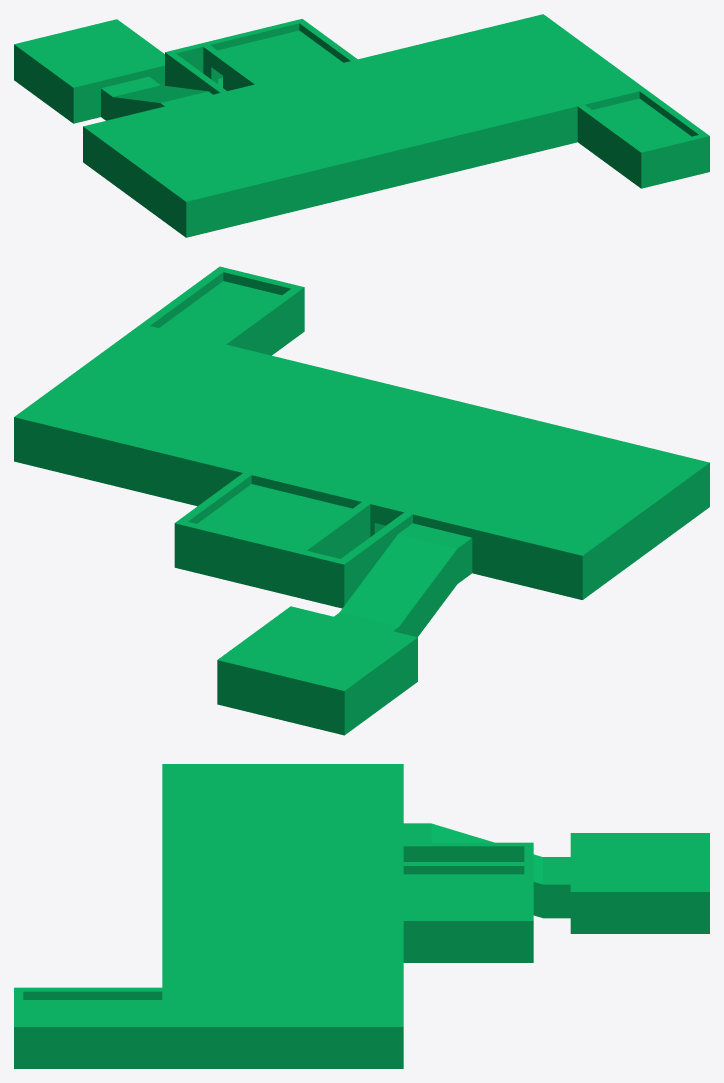
The model's file is tutorial_untex_culled.fbx.
3 views of the same model, one above another, from view 1: azimuth 30°, elevation 25°; view 2: azimuth 150°, elevation 25°; view 3: azimuth 270°, elevation 25° (orthographic). The views are drawn at different scales.
Visible parts, largest first — view 1: Brush010, Brush006, Brush027, Brush025, Brush052, Brush017, Brush003, Brush049, Brush019, Brush002, Brush004, Brush007 (+15 smaller); view 2: Brush010, Brush027, Brush015, Brush013, Brush025, Brush052, Brush051, Brush017, Brush038, Brush018, Brush019, Brush049 (+12 smaller); view 3: Brush010, Brush027, Brush007, Brush050, Brush052, Brush012, Brush017, Brush004, Brush019, Brush023, Brush006, Brush028 (+12 smaller).
Boxes of the visible parts, x1,y1,x2,y2 form: Brush010: [266, 18, 635, 155]; Brush006: [189, 97, 601, 235]; Brush027: [94, 87, 353, 197]; Brush025: [83, 125, 192, 237]; Brush052: [25, 24, 164, 82]; Brush017: [218, 30, 343, 82]; Brush003: [637, 133, 709, 188]; Brush049: [14, 42, 80, 123]; Brush019: [452, 48, 564, 97]; Brush002: [577, 104, 643, 185]; Brush004: [592, 98, 691, 148]; Brush007: [537, 14, 705, 136]; Brush010: [28, 329, 483, 498]; Brush027: [375, 414, 696, 549]; Brush015: [22, 415, 298, 506]; Brush013: [183, 522, 339, 606]; Brush025: [574, 460, 709, 599]; Brush052: [231, 612, 404, 685]; Brush051: [225, 658, 340, 733]; Brush017: [197, 484, 352, 548]; Brush038: [455, 521, 578, 597]; Brush018: [257, 401, 398, 462]; Brush019: [116, 365, 253, 427]; Brush049: [336, 635, 417, 735]; Brush010: [171, 866, 394, 1022]; Brush027: [171, 768, 394, 861]; Brush007: [23, 1023, 403, 1068]; Brush050: [570, 888, 709, 933]; Brush052: [580, 837, 700, 887]; Brush012: [403, 917, 533, 962]; Brush017: [403, 874, 524, 916]; Brush004: [23, 1000, 162, 1022]; Brush019: [227, 956, 338, 999]; Brush023: [403, 842, 533, 861]; Brush006: [162, 768, 171, 1001]; Brush028: [171, 862, 477, 874].
Bounding box in the file's own units: 2144 × 288 × 2400.
